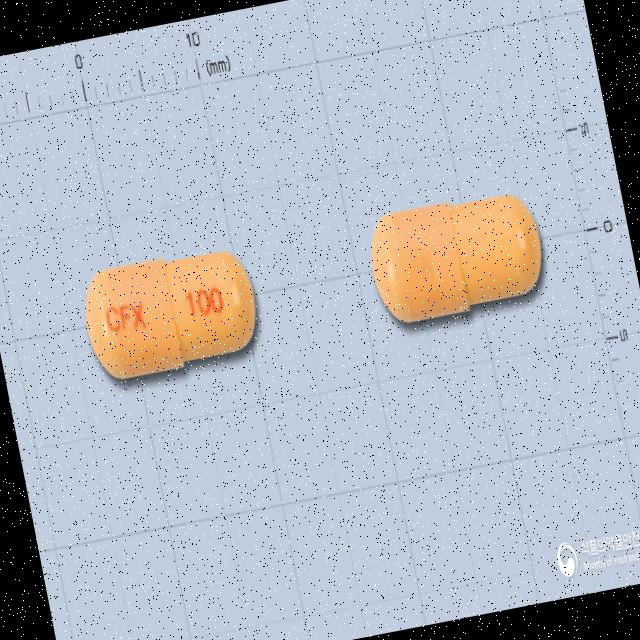Kukje Cefixime Cap: (361, 185, 552, 328), (77, 240, 266, 384)
